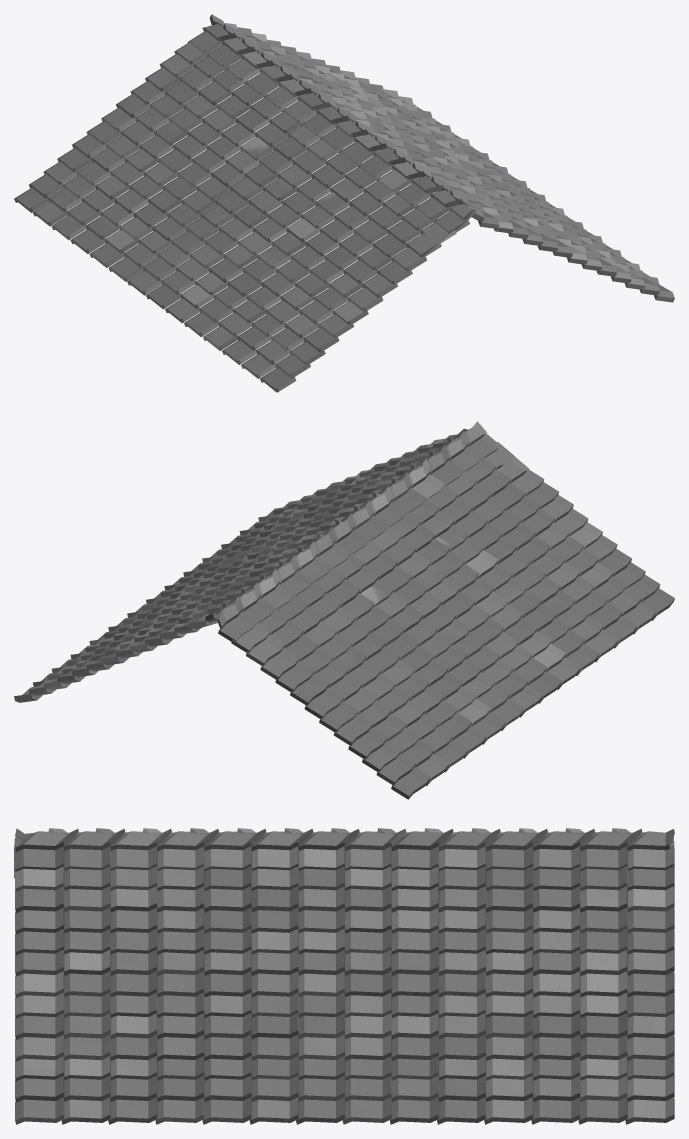
File: Telhado.fbx
3 views of the same model, one above another, from view 1: azimuth 30°, elevation 25°; view 2: azimuth 150°, elevation 25°; view 3: azimuth 270°, elevation 25° (orthographic). The views are drawn at different scales.
Parts seen in each view (by area): view 1: Telhado; view 2: Telhado; view 3: Telhado.
Boxes of the visible parts, x1=… form: Telhado: x1=14, y1=14, x2=674, y2=392; Telhado: x1=14, y1=421, x2=674, y2=799; Telhado: x1=14, y1=828, x2=674, y2=1124.
Size of the model in its own units: 960 by 327 by 1107.
